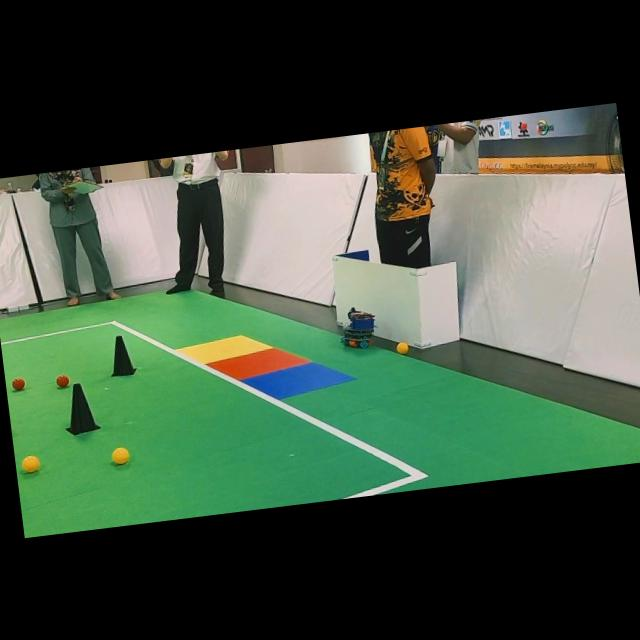ball: (111, 446, 129, 464), (22, 455, 39, 472), (11, 377, 25, 390), (395, 341, 409, 354), (55, 375, 69, 387)
goal: (242, 361, 355, 398), (208, 347, 310, 379), (176, 335, 273, 363)
